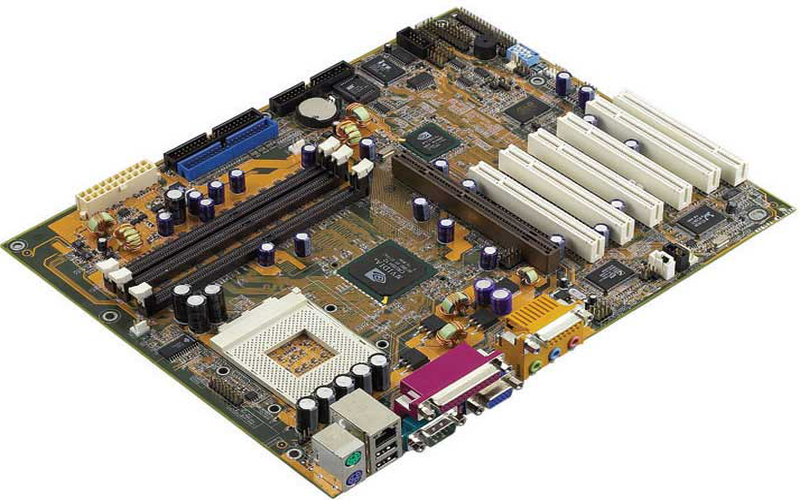Cirtuit-Board: (0, 1, 800, 500)
